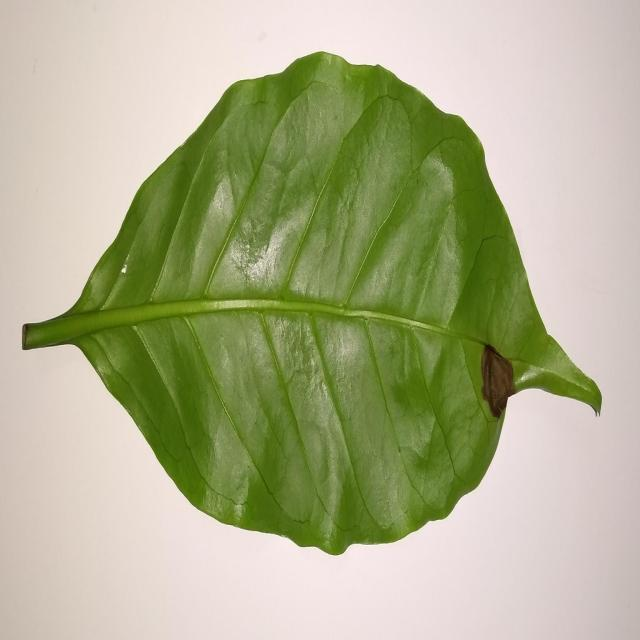phoma: (481, 344, 517, 418)
